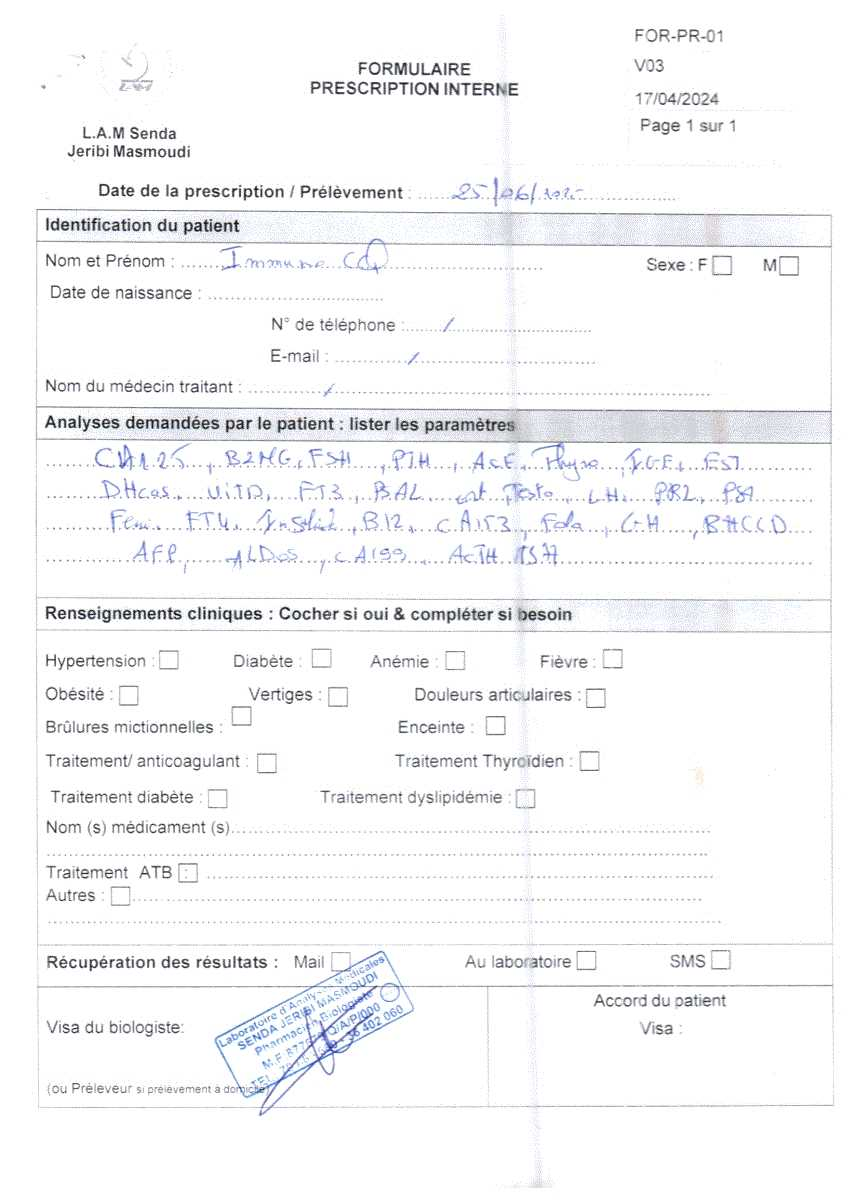zone_analyses: (39, 406, 814, 590)
zone_date: (83, 161, 611, 209)
zone_patient: (36, 208, 826, 371)
